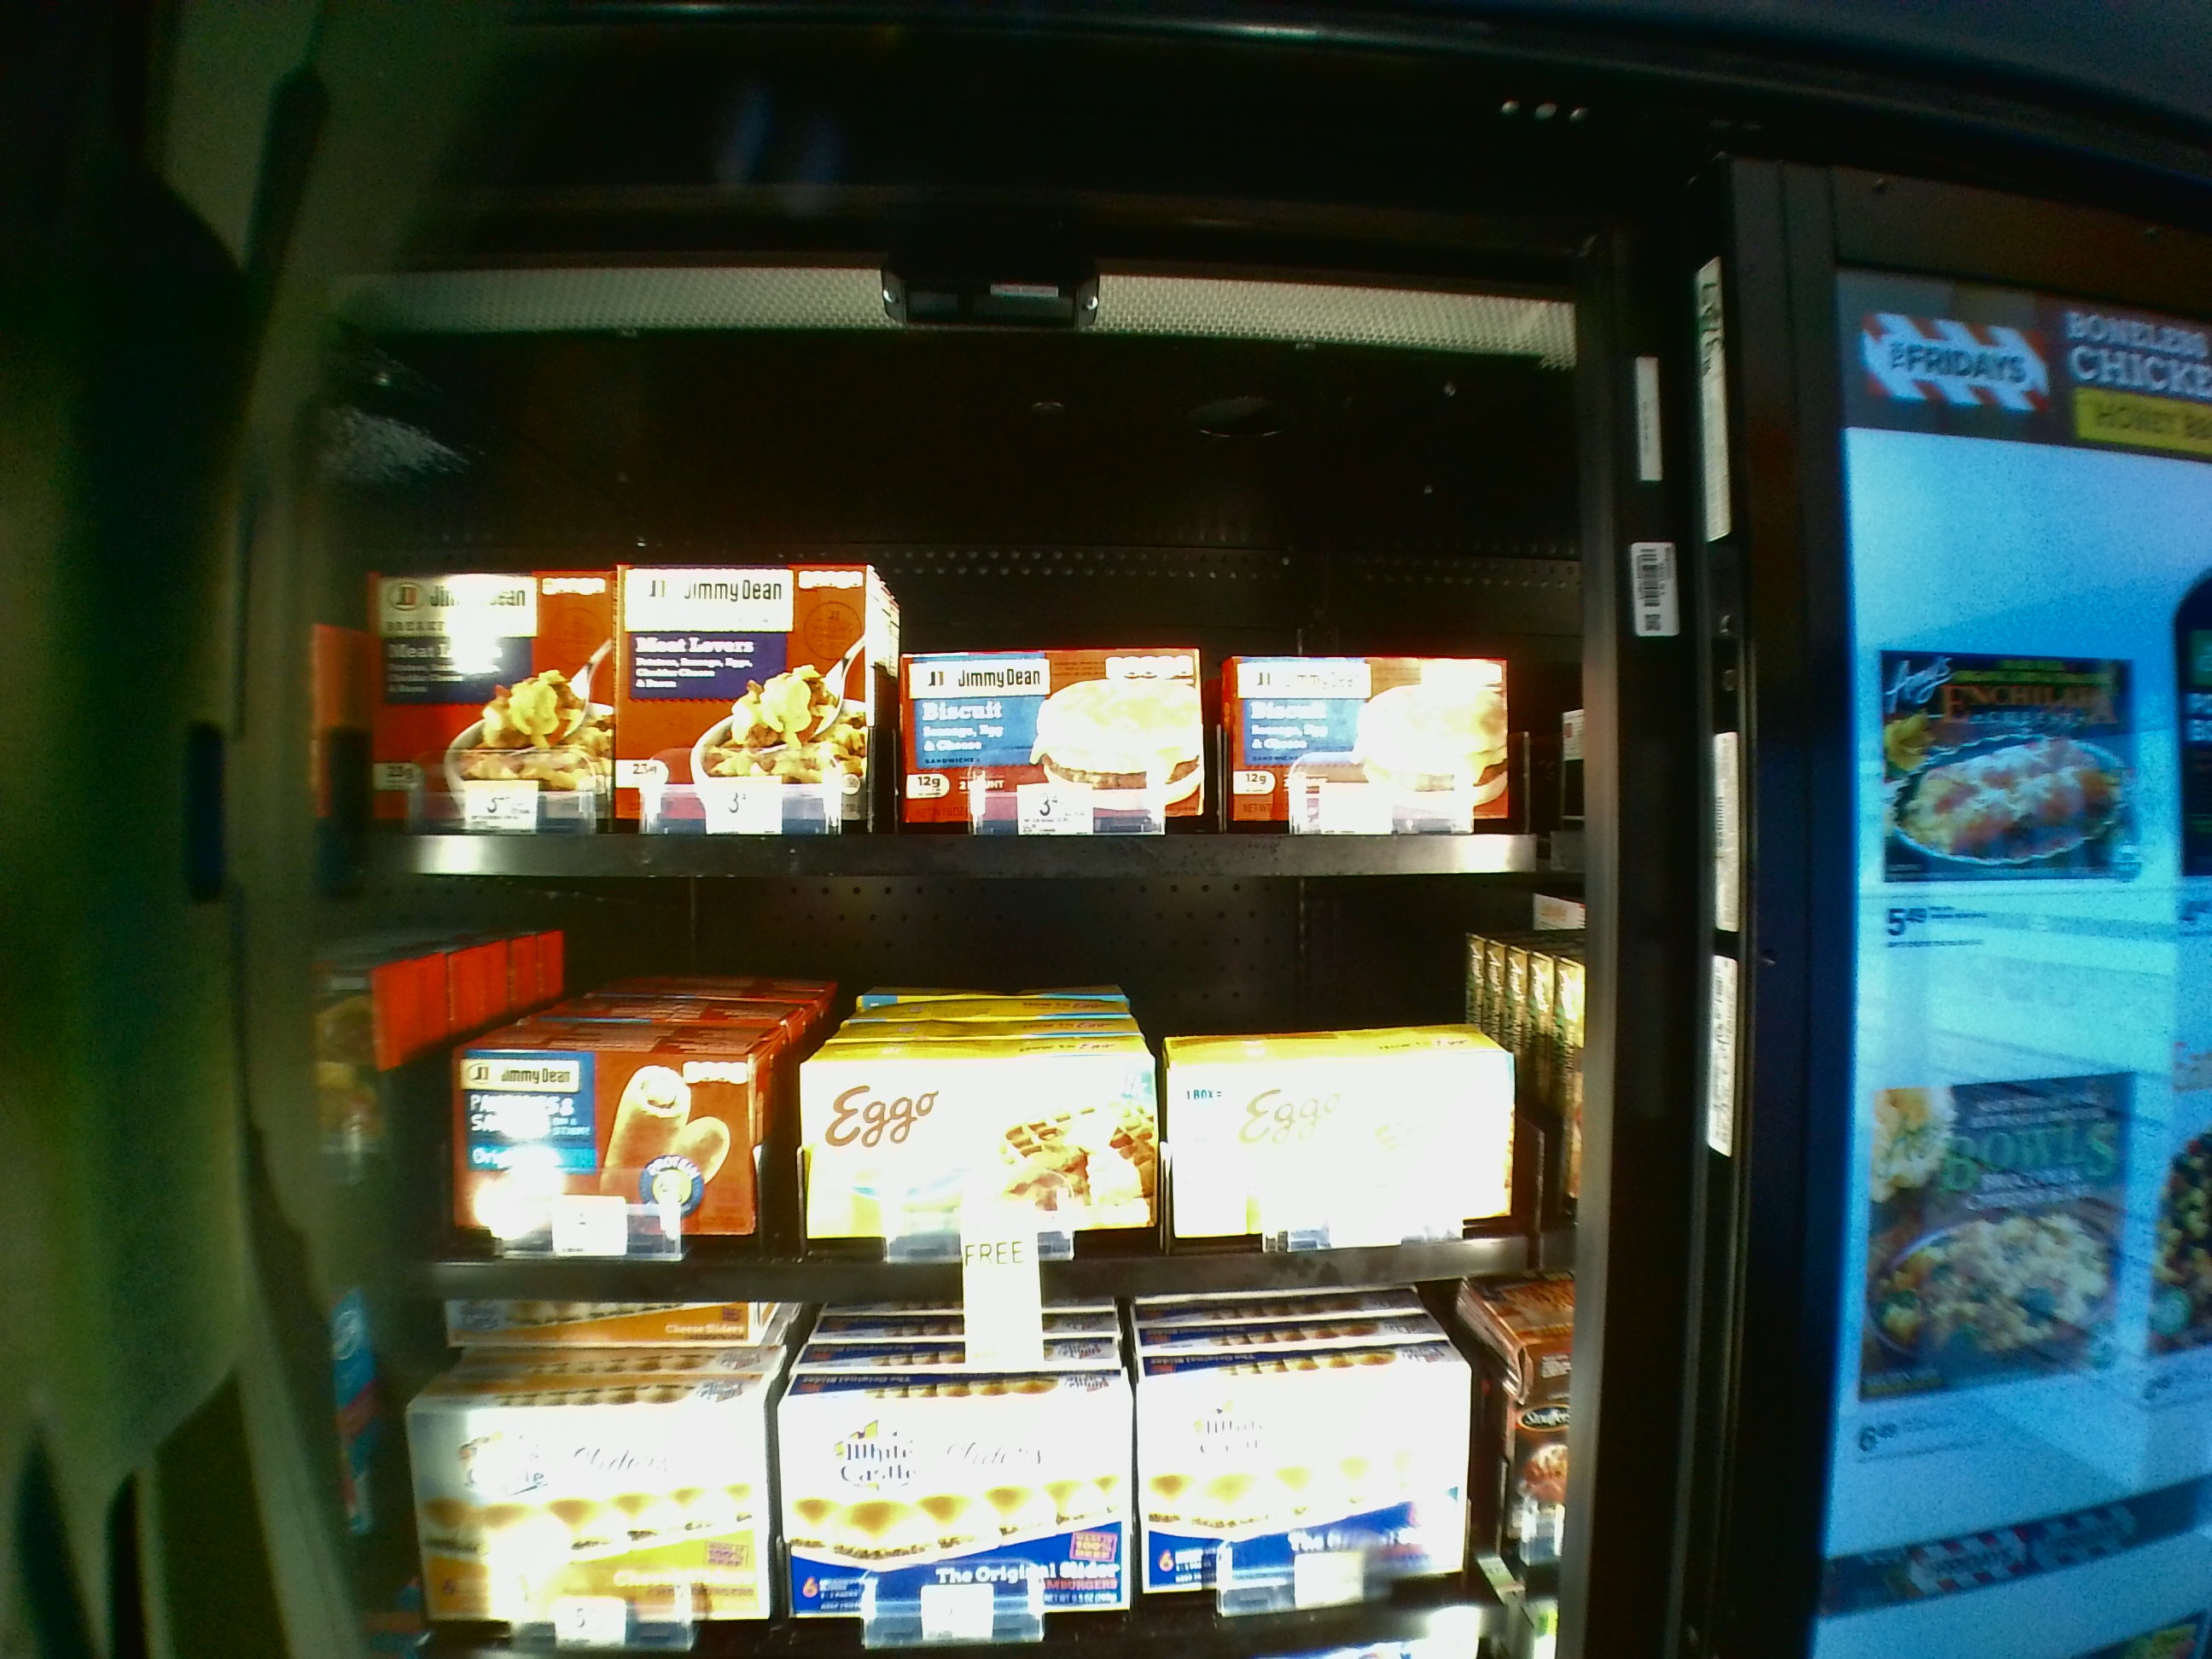shelf: (329, 357, 1571, 870), (326, 882, 1575, 1316)
